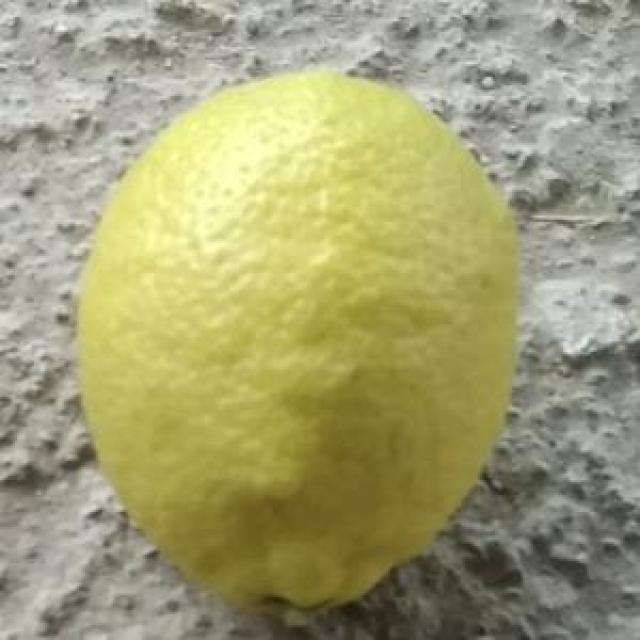lemon: (81, 68, 514, 632)
